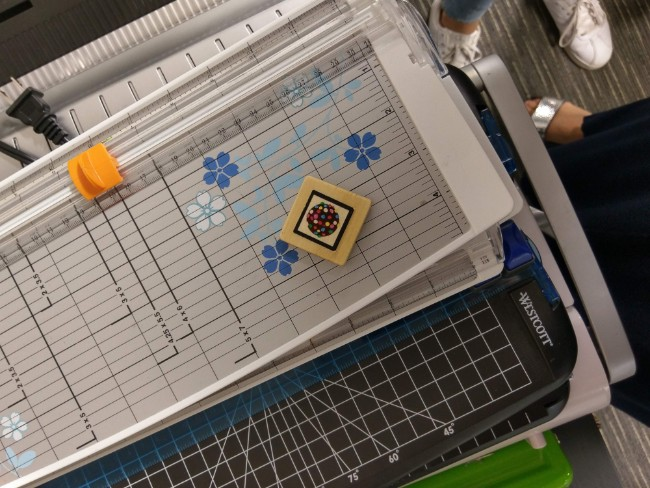cookie: (271, 175, 377, 263)
